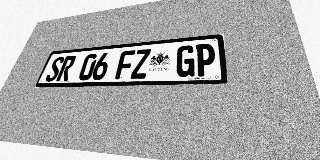0: (77, 53, 98, 81)
6: (91, 52, 112, 80)
F: (115, 50, 135, 79)
G: (175, 45, 195, 77)
P: (195, 43, 216, 77)
R: (56, 55, 77, 81)
S: (44, 56, 65, 82)
Z: (130, 49, 151, 79)
